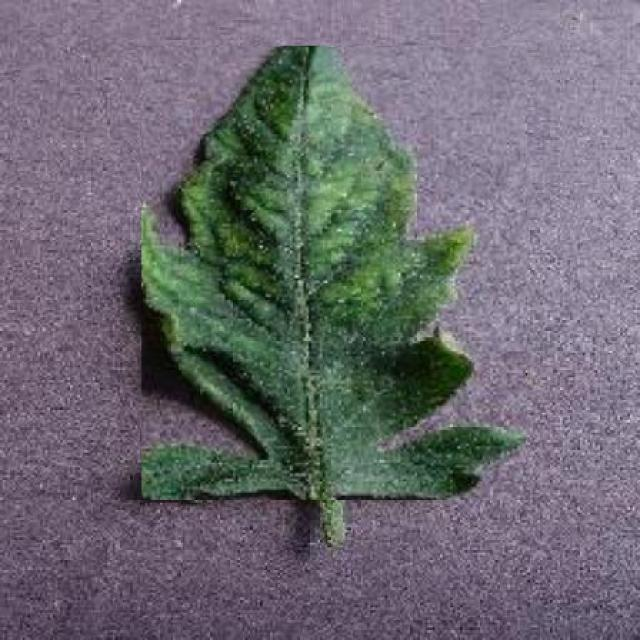Mosaic Virus: (142, 46, 527, 501)
